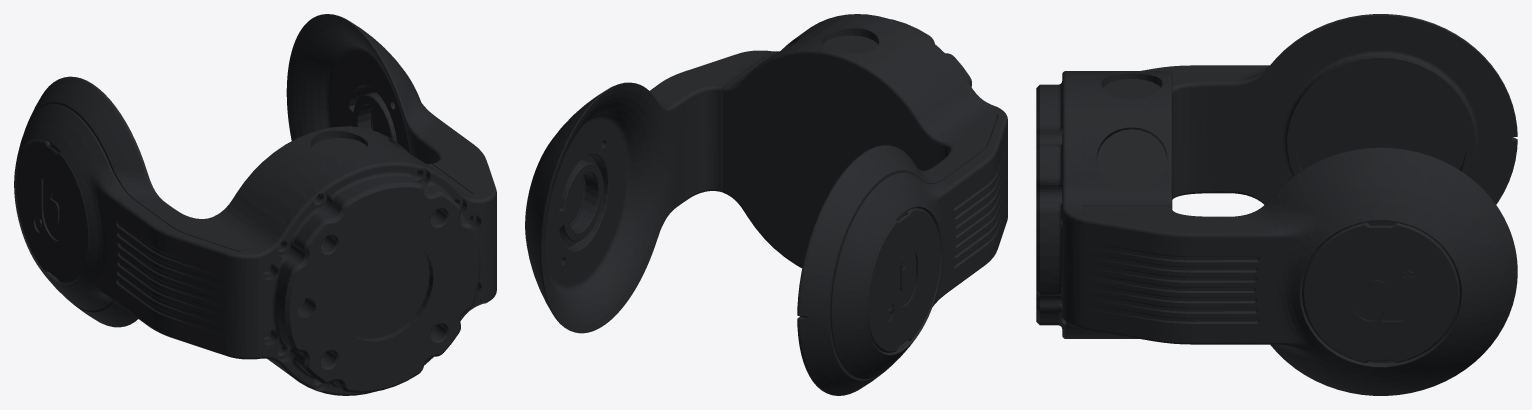
Rendered from AR5_5_08R_W4C4A6_link7_vis.obj.
3 views of the same model, side by side, from view 1: azimuth 30°, elevation 25°; view 2: azimuth 150°, elevation 25°; view 3: azimuth 270°, elevation 25° (orthographic). The views are drawn at different scales.
Parts seen in each view (by area): view 1: AR5_5_08R_W4C4A6_link7; view 2: AR5_5_08R_W4C4A6_link7; view 3: AR5_5_08R_W4C4A6_link7.
Part boxes in pixels (x1=…): AR5_5_08R_W4C4A6_link7: x1=14, y1=14, x2=496, y2=395; AR5_5_08R_W4C4A6_link7: x1=525, y1=14, x2=1007, y2=395; AR5_5_08R_W4C4A6_link7: x1=1036, y1=14, x2=1517, y2=395.
Bounding box in the file's own units: 0.1097 × 0.0714 × 0.1257.
1 material, 1 textured.
